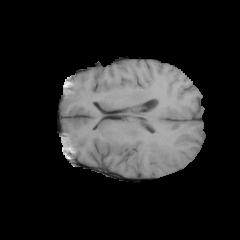glioma: (141, 131, 174, 170)
